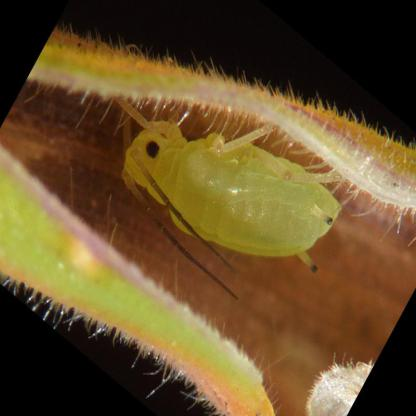schizaphis graminum: (117, 99, 343, 299)
